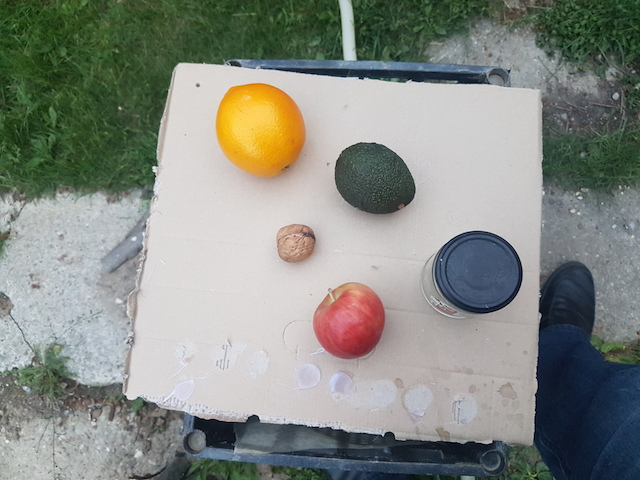apple: (314, 279, 389, 358)
avocado: (333, 142, 419, 215)
nut: (272, 221, 318, 264)
orange: (216, 82, 309, 178)
recipient: (437, 227, 525, 314)
